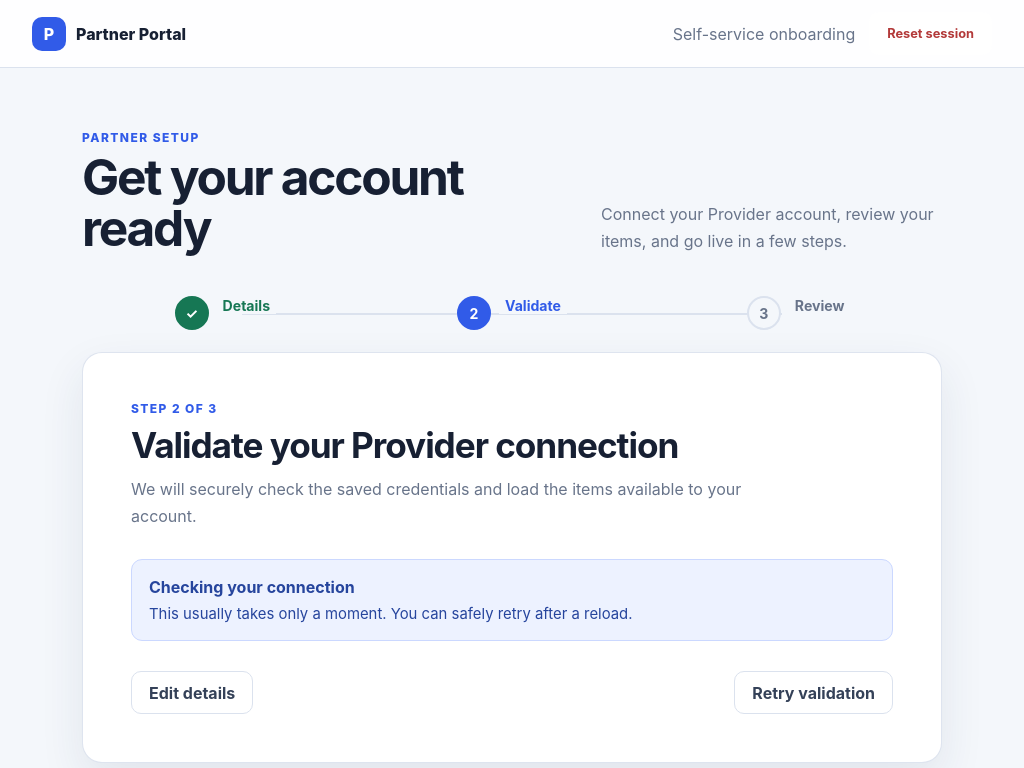
Test: Onboarding wizard › retries a persisted pending validation after reload
Click the button "Retry validation" at (814, 693), box 734,671 -> 893,714
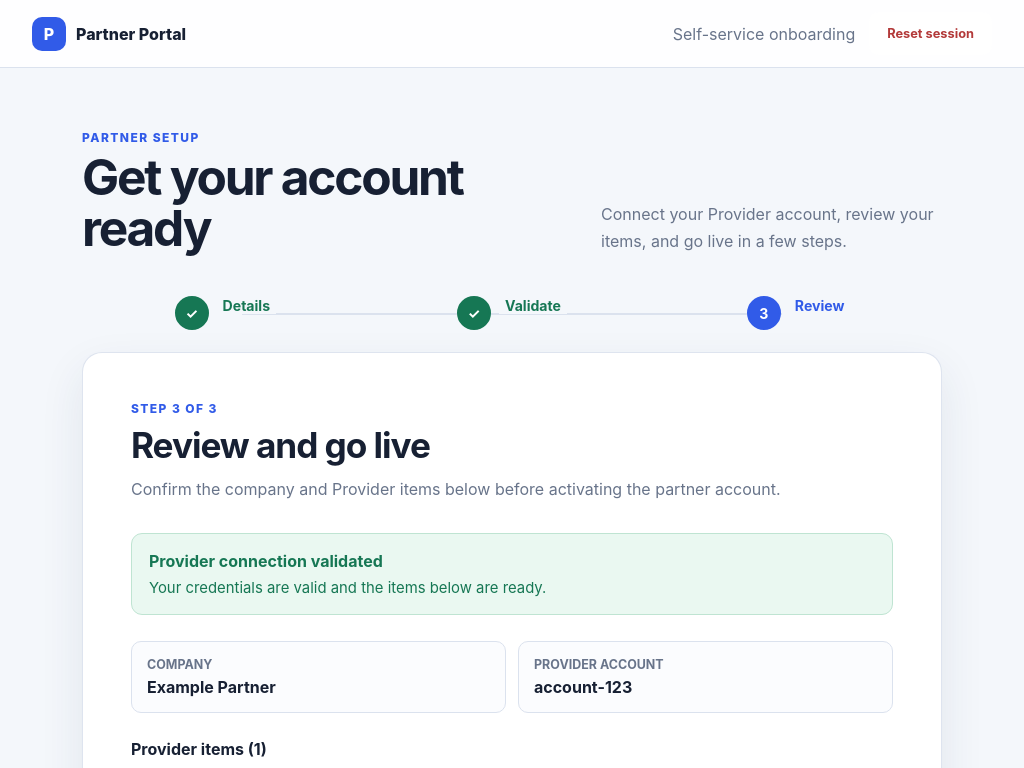
Check: the heading "Review and go live" is shown, box 131,424 -> 430,466
